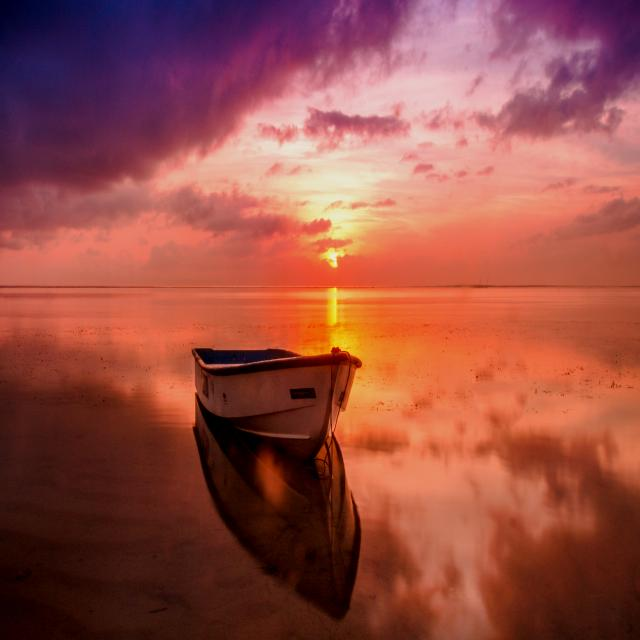ship: (181, 305, 369, 449)
